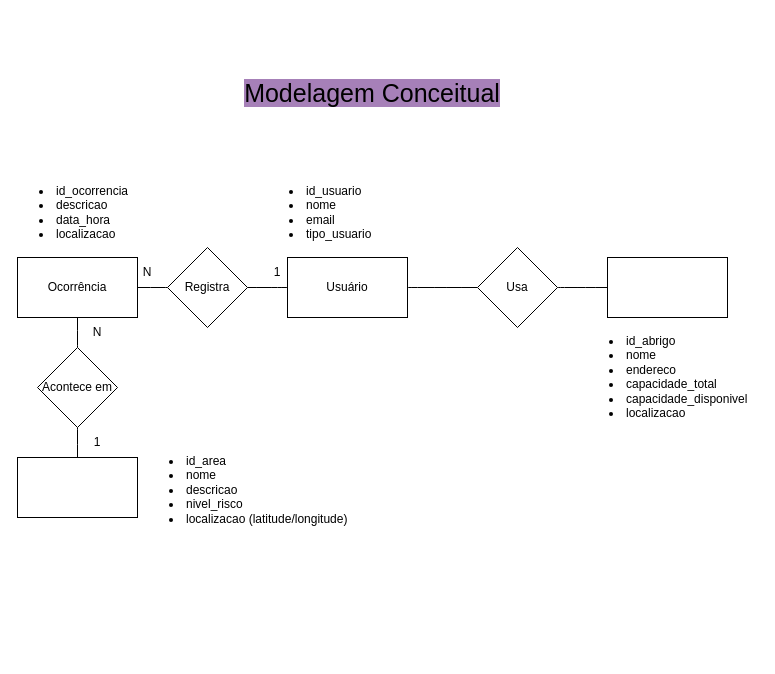
This 775x674 diagram has some shape labels left out. The box of each missing label's shape, as (x1, y1, x2, y2) in pixels:
Abrigo: (606, 256, 728, 318)
Área de Risco: (16, 456, 138, 518)
